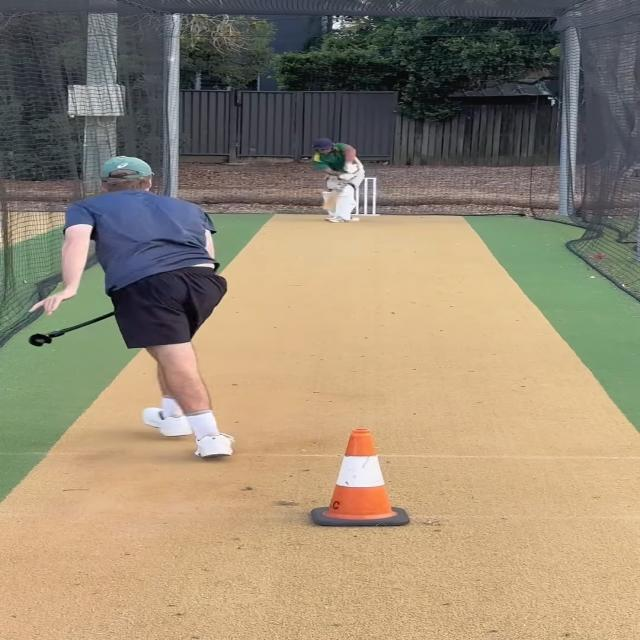ball: (352, 216, 362, 222)
stump: (354, 178, 377, 216)
